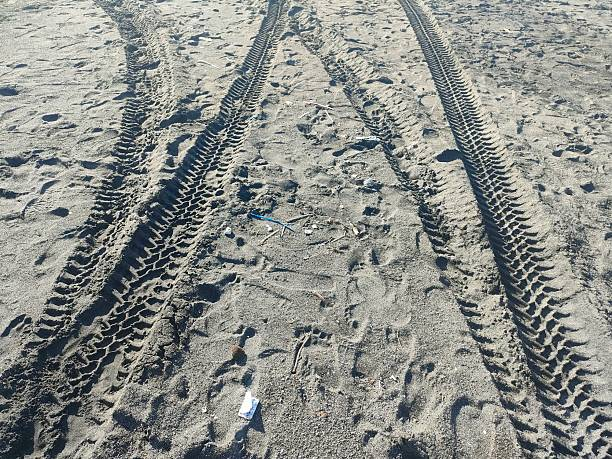vehicle_track: (0, 0, 285, 456), (292, 11, 543, 451), (400, 0, 611, 456), (27, 0, 173, 347)
